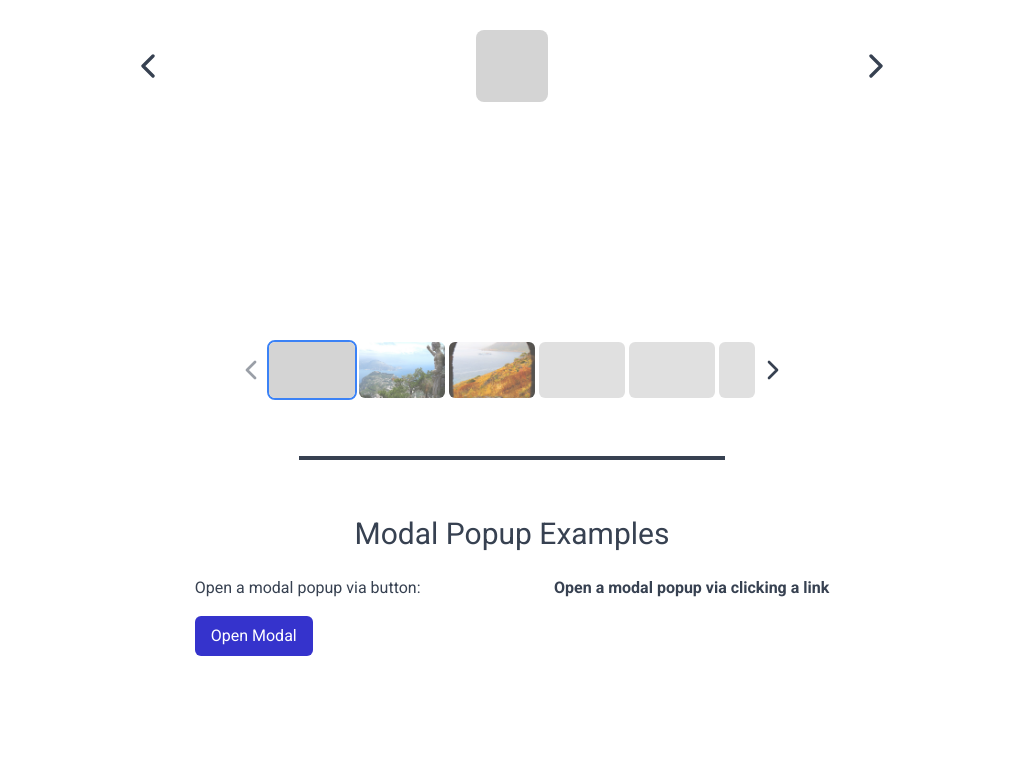
Projects Page Component › opens modal when button is clicked
(page scrolled)
Click the button "Open Modal".
click(254, 636)  # box [195,616,313,656]
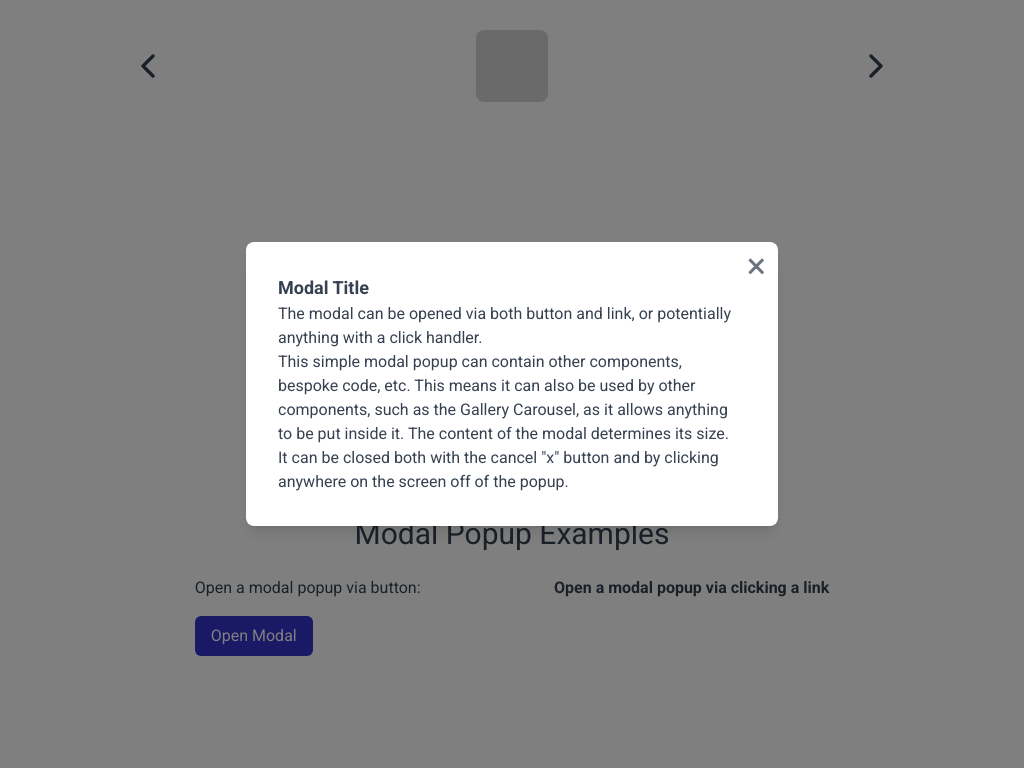
Result: the dialog is shown
